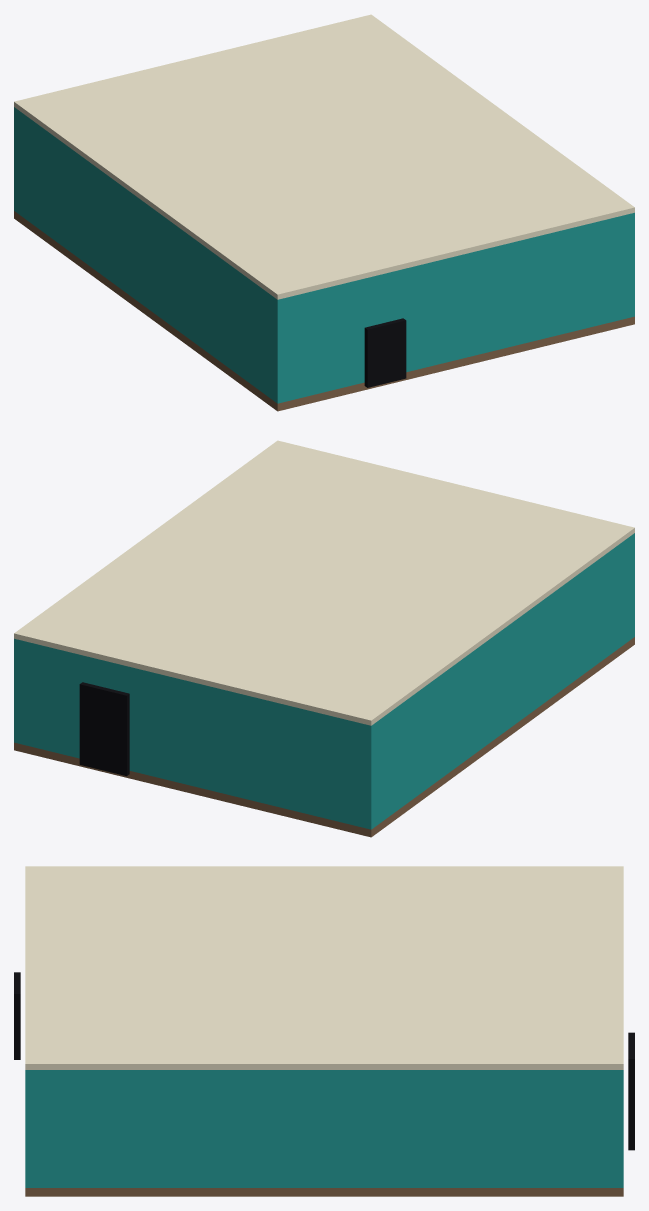
The model's file is rdwe_teal.glb.
3 views of the same model, one above another, from view 1: azimuth 30°, elevation 25°; view 2: azimuth 150°, elevation 25°; view 3: azimuth 270°, elevation 25° (orthographic). The views are drawn at different scales.
Parts seen in each view (by area): view 1: Teal_Ceiling, Teal_Wall_W_1, Teal_Wall_S_3, Teal_Wall_S_1, Teal_Floor, Beyond_well, Teal_Wall_S_2; view 2: Teal_Ceiling, Teal_Wall_W_1, Teal_Wall_N_1, Teal_Wall_N_3, Teal_Floor, Beyond_void, Teal_Wall_N_2; view 3: Teal_Ceiling, Teal_Wall_E_1, Teal_Floor, Beyond_void, Teal_Wall_N_3, Teal_Wall_S_3, Beyond_well.
Boxes of the visible parts, x1,y1,x2,y2 form: Teal_Ceiling: [14, 14, 634, 299]; Teal_Wall_W_1: [17, 109, 274, 401]; Teal_Wall_S_3: [395, 212, 634, 372]; Teal_Wall_S_1: [274, 278, 368, 403]; Teal_Floor: [14, 211, 634, 411]; Beyond_well: [364, 318, 406, 387]; Teal_Wall_S_2: [368, 271, 395, 326]; Teal_Ceiling: [14, 440, 634, 725]; Teal_Wall_W_1: [374, 535, 631, 827]; Teal_Wall_N_1: [126, 666, 374, 829]; Teal_Wall_N_3: [14, 638, 90, 758]; Teal_Floor: [14, 637, 634, 837]; Beyond_void: [79, 682, 129, 776]; Teal_Wall_N_2: [90, 657, 126, 692]; Teal_Ceiling: [25, 866, 623, 1069]; Teal_Wall_E_1: [32, 1070, 616, 1187]; Teal_Floor: [25, 1188, 623, 1196]; Beyond_void: [628, 1032, 634, 1150]; Teal_Wall_N_3: [617, 1070, 623, 1187]; Teal_Wall_S_3: [25, 1070, 31, 1187]; Beyond_well: [14, 972, 20, 1059].
Size of the model in its own units: 14.4 by 4.5 by 19.1.
